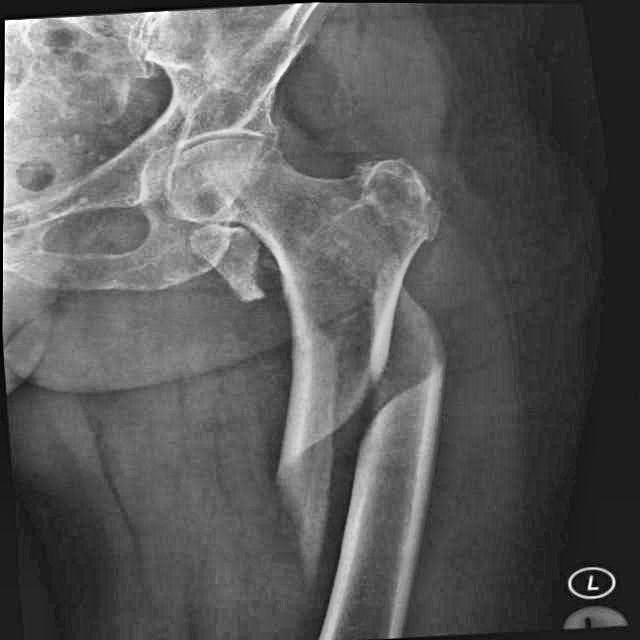Spiral: (247, 268, 498, 573)
